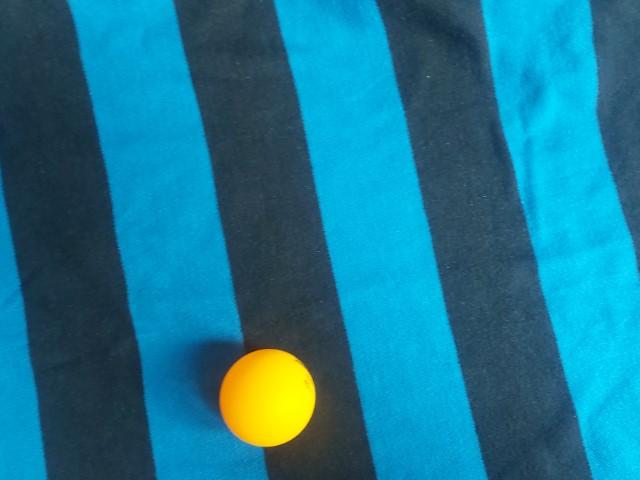oball: (317, 28, 425, 137)
